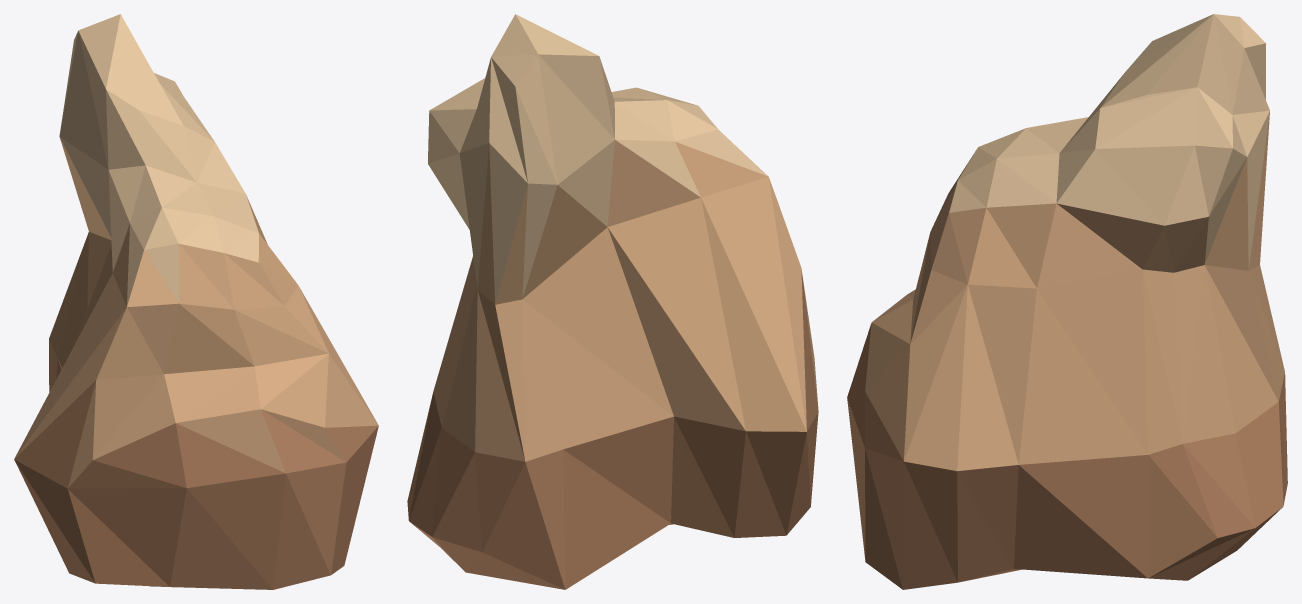
File: canyon-3-2.glb
3 renders of one model, left to right at view 1: azimuth 30°, elevation 25°; view 2: azimuth 150°, elevation 25°; view 3: azimuth 270°, elevation 25°, orthographic. The views are drawn at different scales.
Parts seen in each view (by area): view 1: canyon-3-2; view 2: canyon-3-2; view 3: canyon-3-2.
Boxes of the visible parts, left/top/right/bottom form: canyon-3-2: left=14, top=14, right=378, bottom=589; canyon-3-2: left=407, top=14, right=818, bottom=589; canyon-3-2: left=847, top=14, right=1287, bottom=589.
Bounding box in the file's own units: 19.87 × 30 × 22.19.
